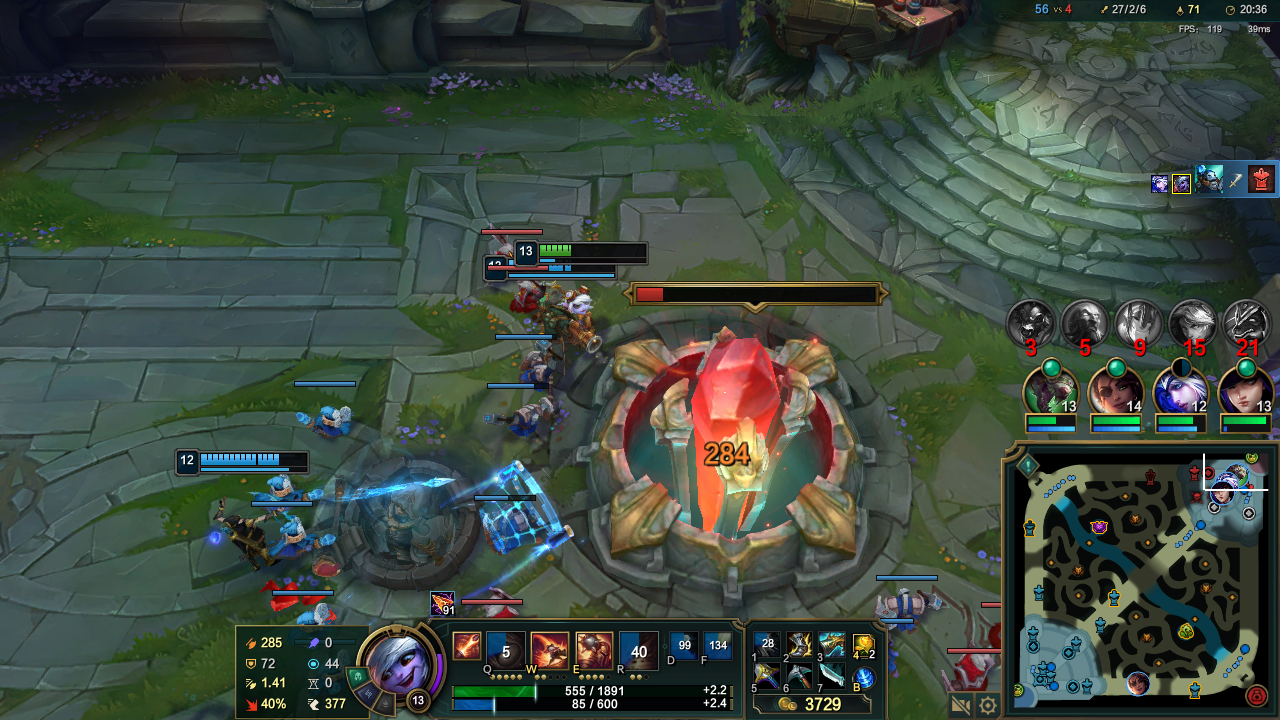DFDSJ: (595, 318, 868, 583)
DFXB: (503, 280, 553, 328), (945, 640, 989, 690), (473, 590, 525, 622), (485, 235, 521, 265)
WFXB: (257, 519, 340, 563), (490, 397, 556, 446), (248, 476, 333, 514), (511, 342, 561, 395), (289, 404, 358, 438)
